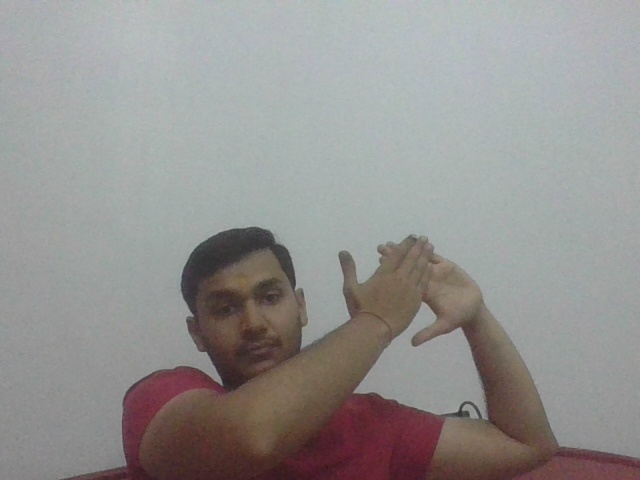H: (337, 232, 487, 349)
